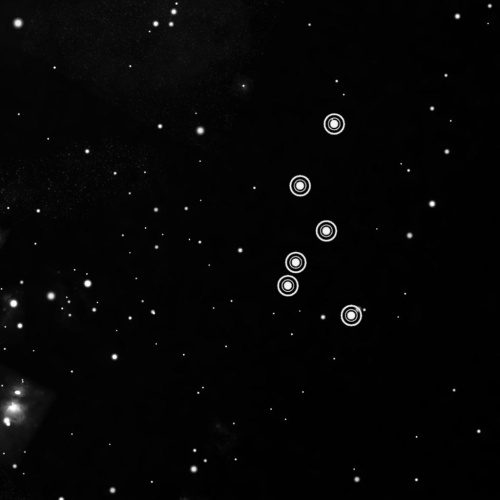cassiopeia: (271, 107, 364, 332)
